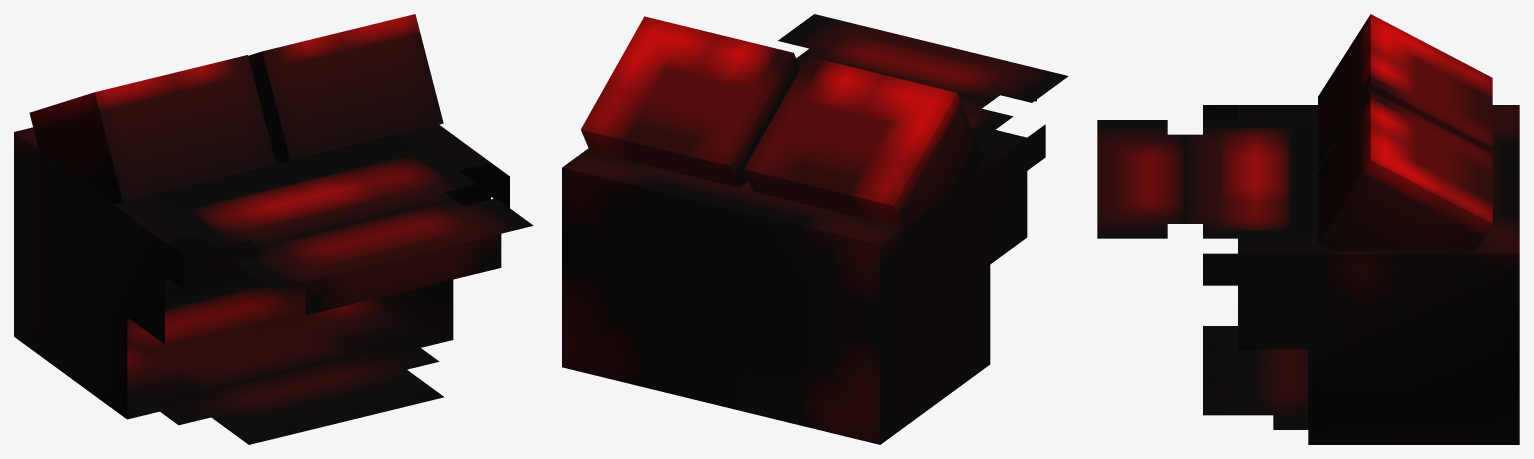
Rendered from Armor_IllagerRoyalGuard.glb.
The picture shows the model from 3 angles, left to right: view 1: azimuth 30°, elevation 25°; view 2: azimuth 150°, elevation 25°; view 3: azimuth 270°, elevation 25°; orthographic projection. The views are drawn at different scales.
Visible parts, largest first — view 1: Armor_IllagerRoyalGuard.001; view 2: Armor_IllagerRoyalGuard.001; view 3: Armor_IllagerRoyalGuard.001.
Boxes of the visible parts, left/top/right/bottom form: Armor_IllagerRoyalGuard.001: left=14, top=14, right=533, bottom=444; Armor_IllagerRoyalGuard.001: left=562, top=14, right=1068, bottom=444; Armor_IllagerRoyalGuard.001: left=1097, top=14, right=1519, bottom=444.
Size of the model in its own units: 62.5 by 55.41 by 75.
Materials: 1 (1 with a texture image).
